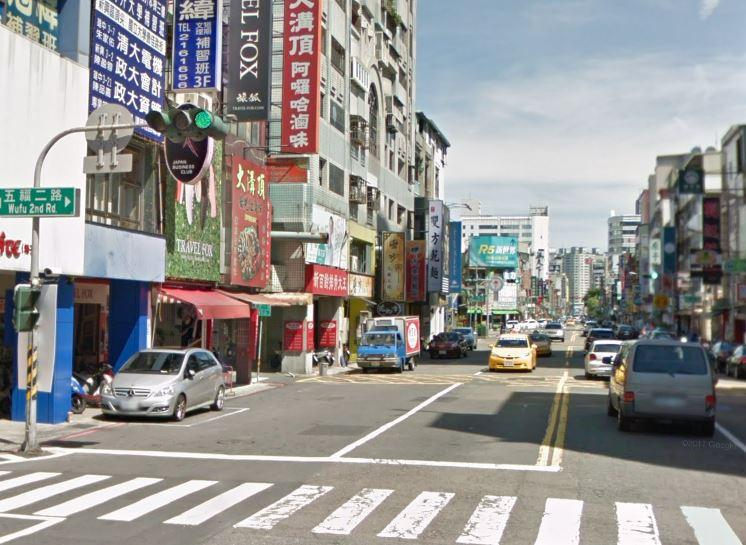car: (94, 346, 230, 425), (609, 339, 722, 428), (488, 328, 540, 378), (585, 330, 629, 382), (426, 328, 467, 359)
green_traffic_light: (147, 105, 231, 142)
truck: (353, 308, 426, 375)
